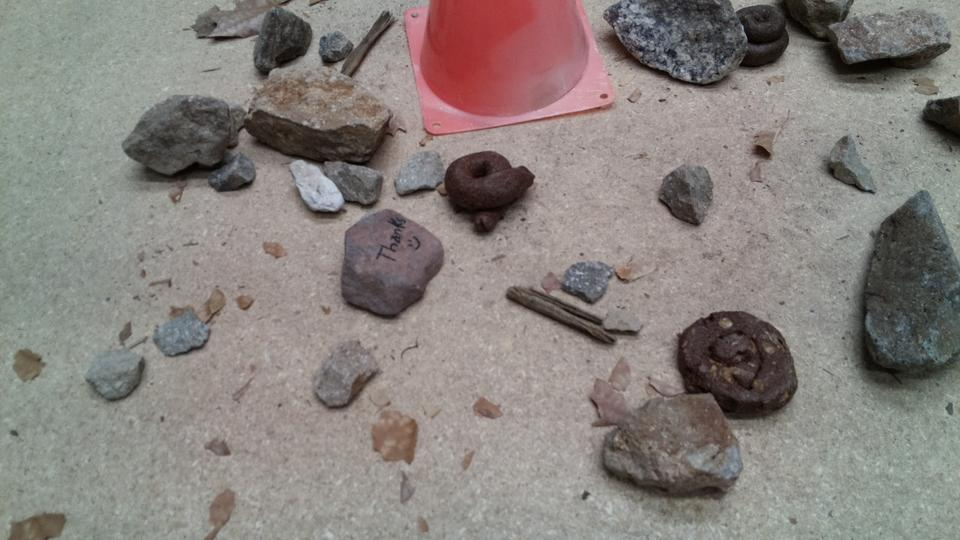poop: (675, 308, 801, 419), (442, 151, 537, 236), (737, 4, 792, 71)
